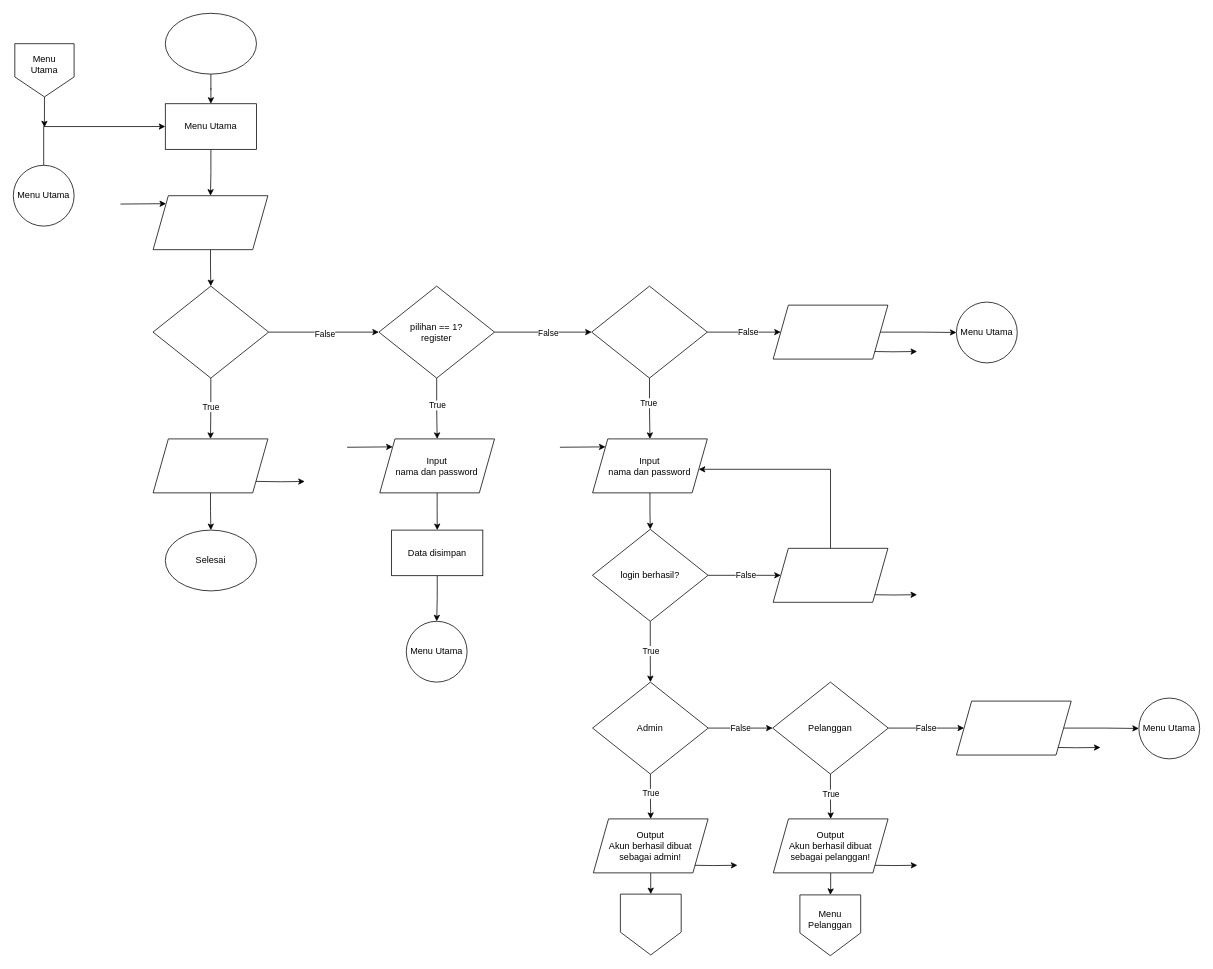
Image size: 1213x969. Some labels were removed from this diagram. Each missing label, with the centre of its shape:
"Input Pilihan" belongs at point (210, 222).
"Menu Admin" belongs at point (650, 924).
"Mulai" belongs at point (210, 43).
"Output nama/password salah silahkan coba lagi" belongs at point (830, 575).
"Output Pilihan tidak valid!" belongs at point (830, 331).
"Output Pilihannya cuman admin atau Pelanggan aja ya!" belongs at point (1013, 727).
"Output Terimakasih udah mampir ke Toko Bunga Hias Rafalia!" belongs at point (210, 465).
"pilihan == 0? keluar" belongs at point (210, 331).
"pilihan == 2? login" belongs at point (649, 331).
